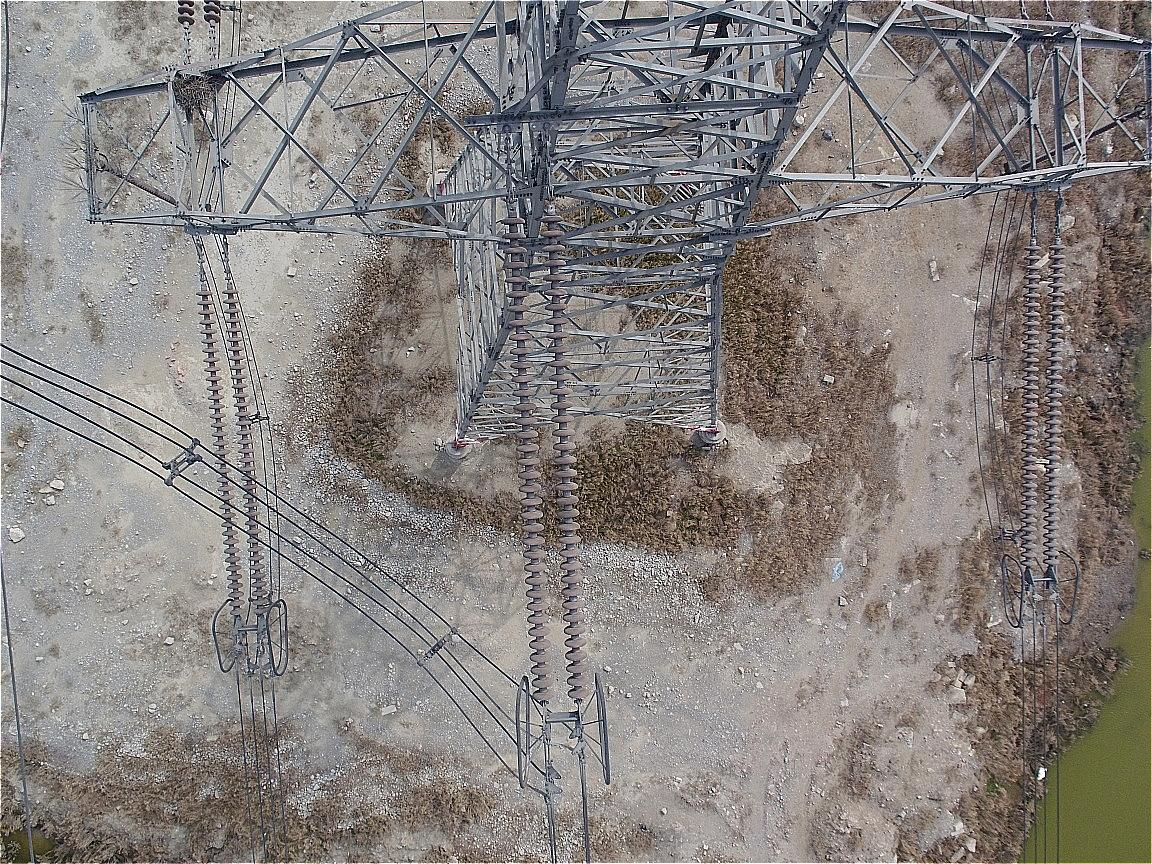insultor1: (503, 212, 589, 703), (198, 289, 272, 616), (1026, 241, 1065, 571)
